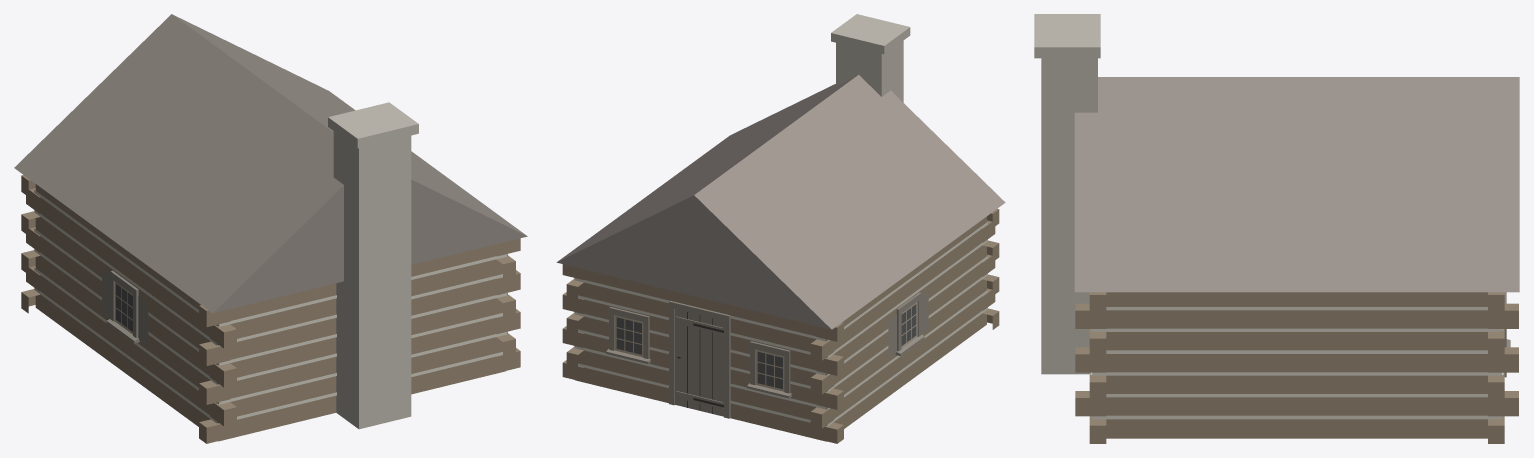
Rendered from forks_house_soldier_1812__soldier_1812.glb.
3 views of the same model, side by side, from view 1: azimuth 30°, elevation 25°; view 2: azimuth 150°, elevation 25°; view 3: azimuth 270°, elevation 25° (orthographic). The views are drawn at different scales.
Parts seen in each view (by area): view 1: forks_house_soldier_1812__soldier_1812; view 2: forks_house_soldier_1812__soldier_1812; view 3: forks_house_soldier_1812__soldier_1812.
Part boxes in pixels (bbox=[...]): forks_house_soldier_1812__soldier_1812: bbox=[14, 14, 527, 443]; forks_house_soldier_1812__soldier_1812: bbox=[556, 14, 1005, 443]; forks_house_soldier_1812__soldier_1812: bbox=[1034, 14, 1519, 443].
Bounding box in the file's own units: 5.77 × 5.14 × 6.87.
